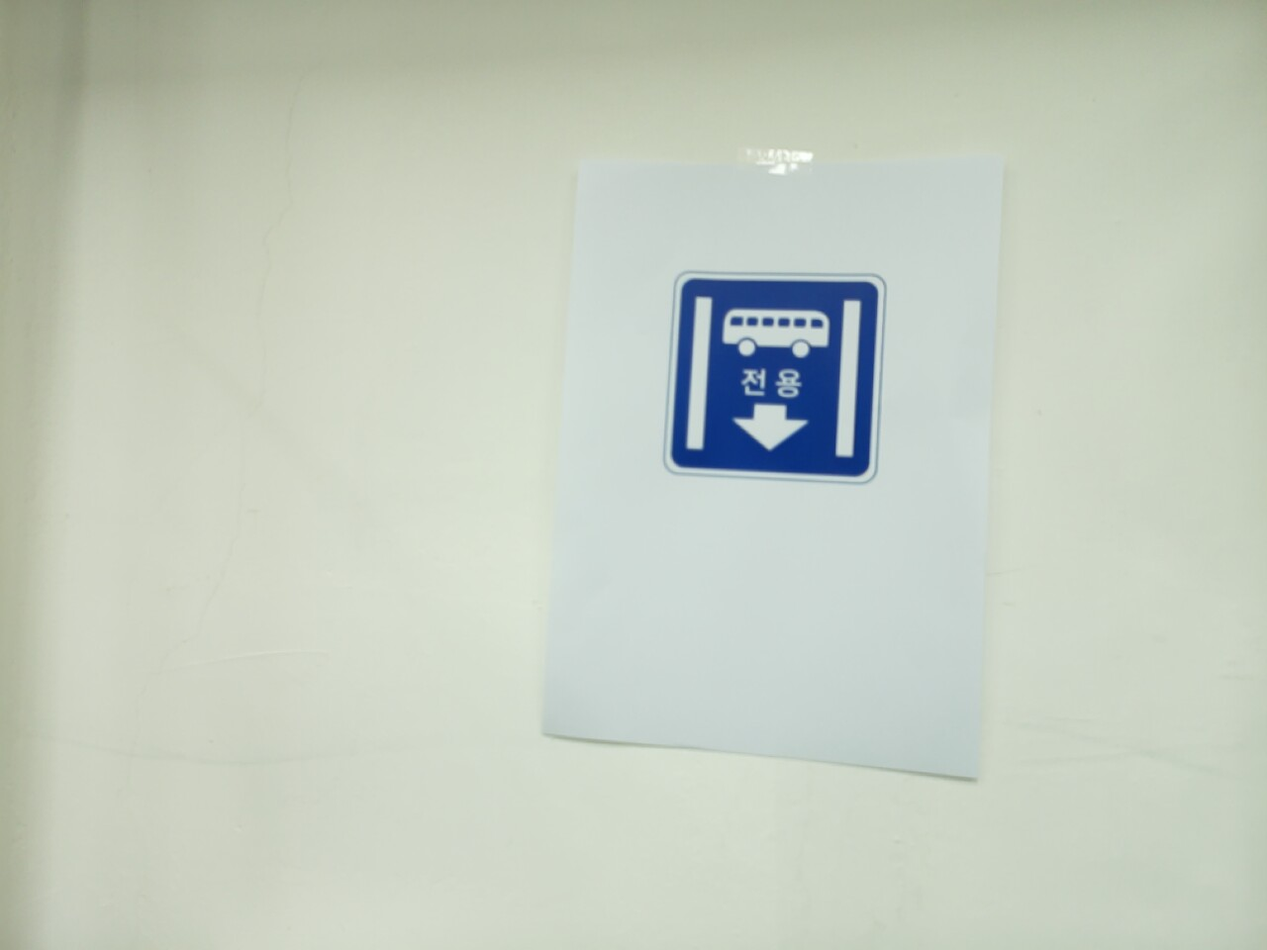bus_only_lane: (663, 270, 887, 485)
